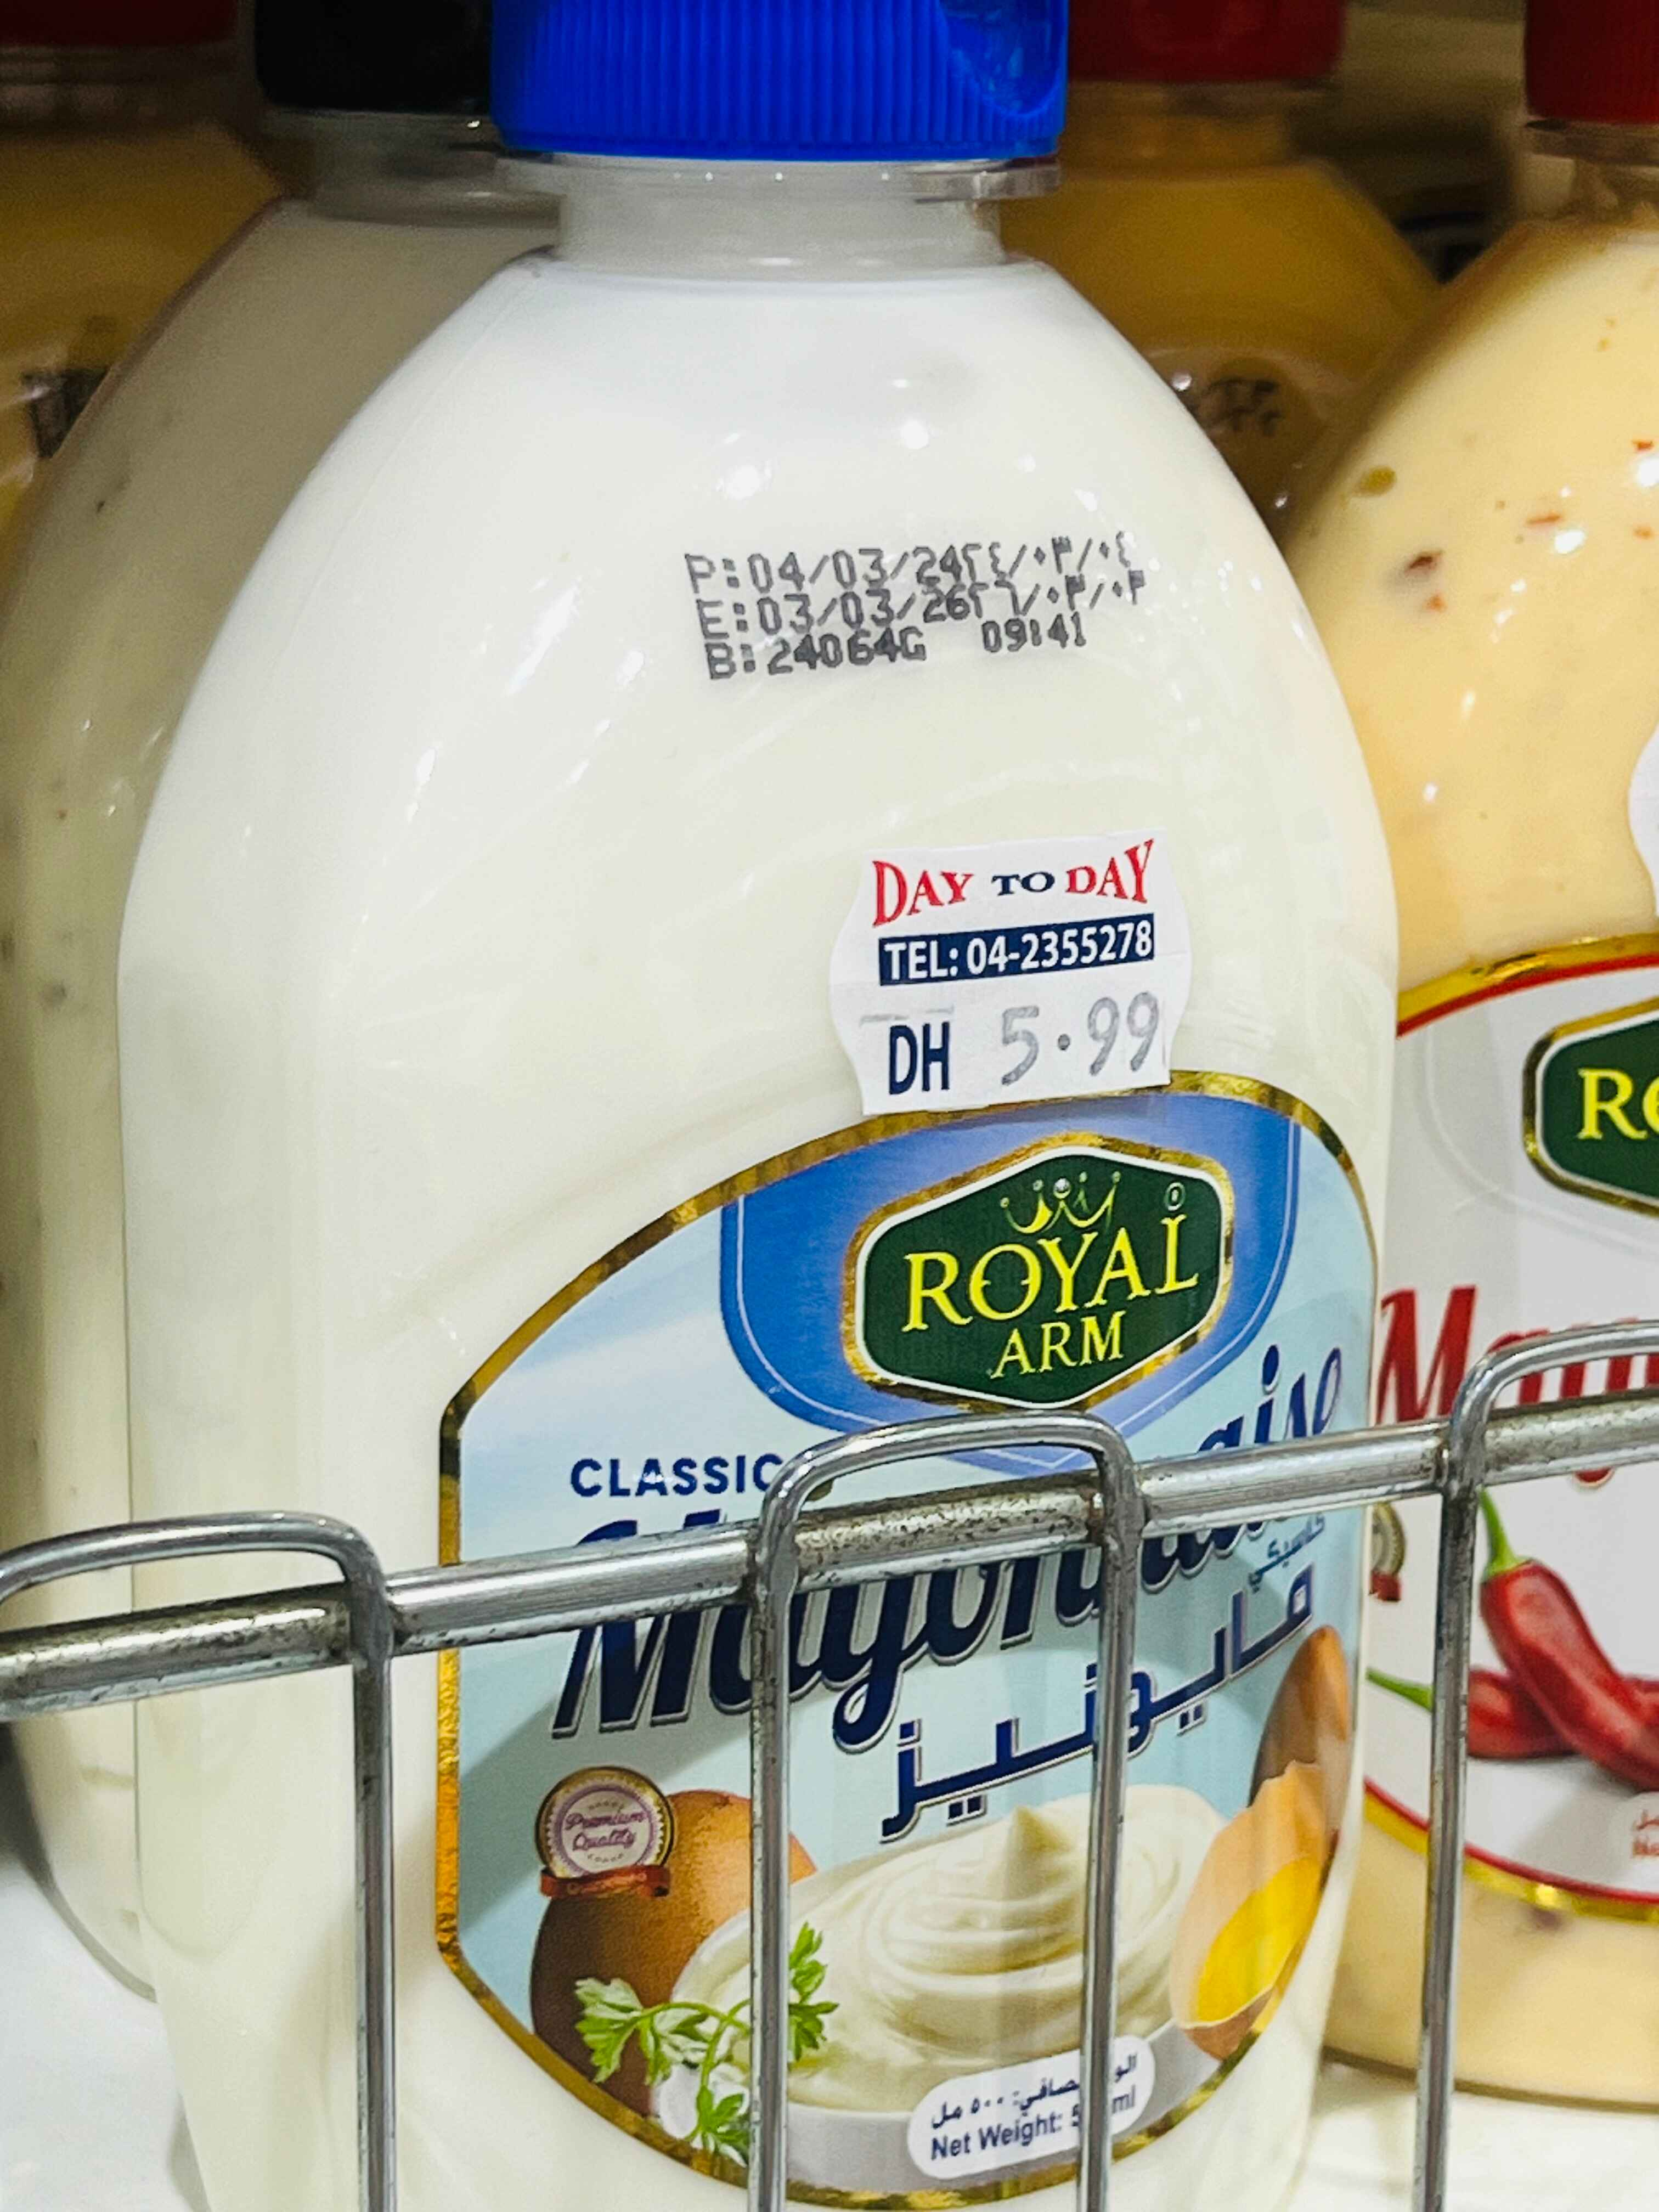PriceTagSmall: (835, 834, 1190, 1120)
